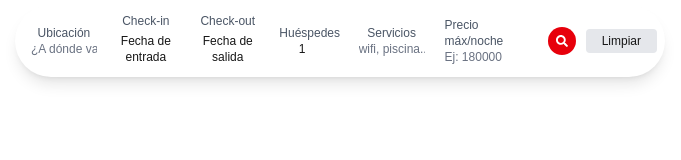
Test: SearchBar Component › Interacción con campos de entrada › debe solo permitir números en el campo de precio
Type "150abc000" into the field with placeholder "Ej: 180000" at (489, 57), box [444, 49, 534, 65]
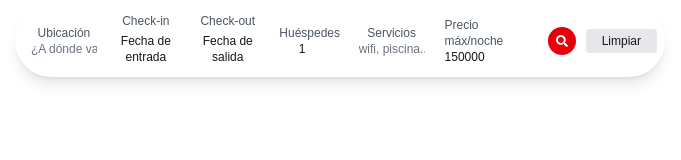
Expected: the field with placeholder "Ej: 180000" holds "150000", [444, 49, 534, 65]
